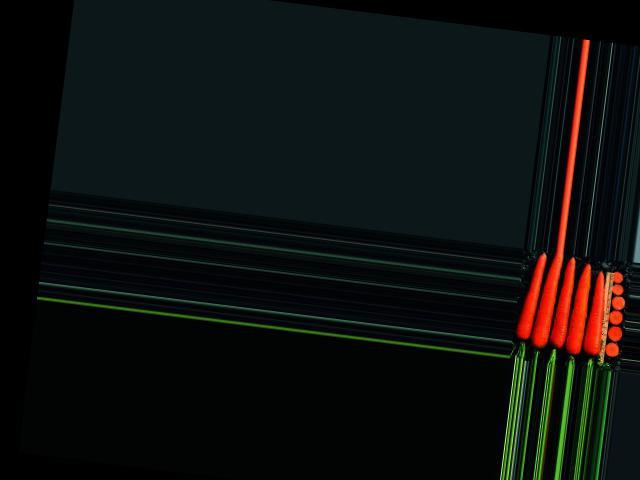carrot: (581, 265, 614, 364)
